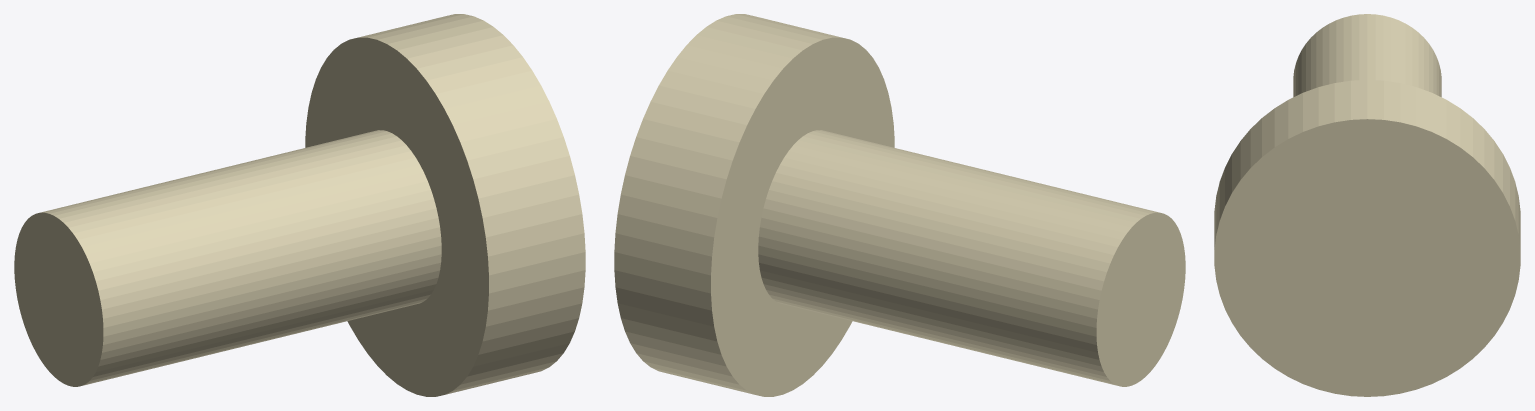
The model's file is thermostat-jiggle-pin.glb.
3 renders of one model, left to right at view 1: azimuth 30°, elevation 25°; view 2: azimuth 150°, elevation 25°; view 3: azimuth 270°, elevation 25°, orthographic. The views are drawn at different scales.
Visible parts, largest first — view 1: world; view 2: world; view 3: world.
Boxes of the visible parts, bbox=[...] form: world: bbox=[14, 14, 585, 396]; world: bbox=[614, 14, 1185, 396]; world: bbox=[1214, 14, 1520, 396].
Bounding box in the file's own units: 0.0045 × 0.0033 × 0.0033.
